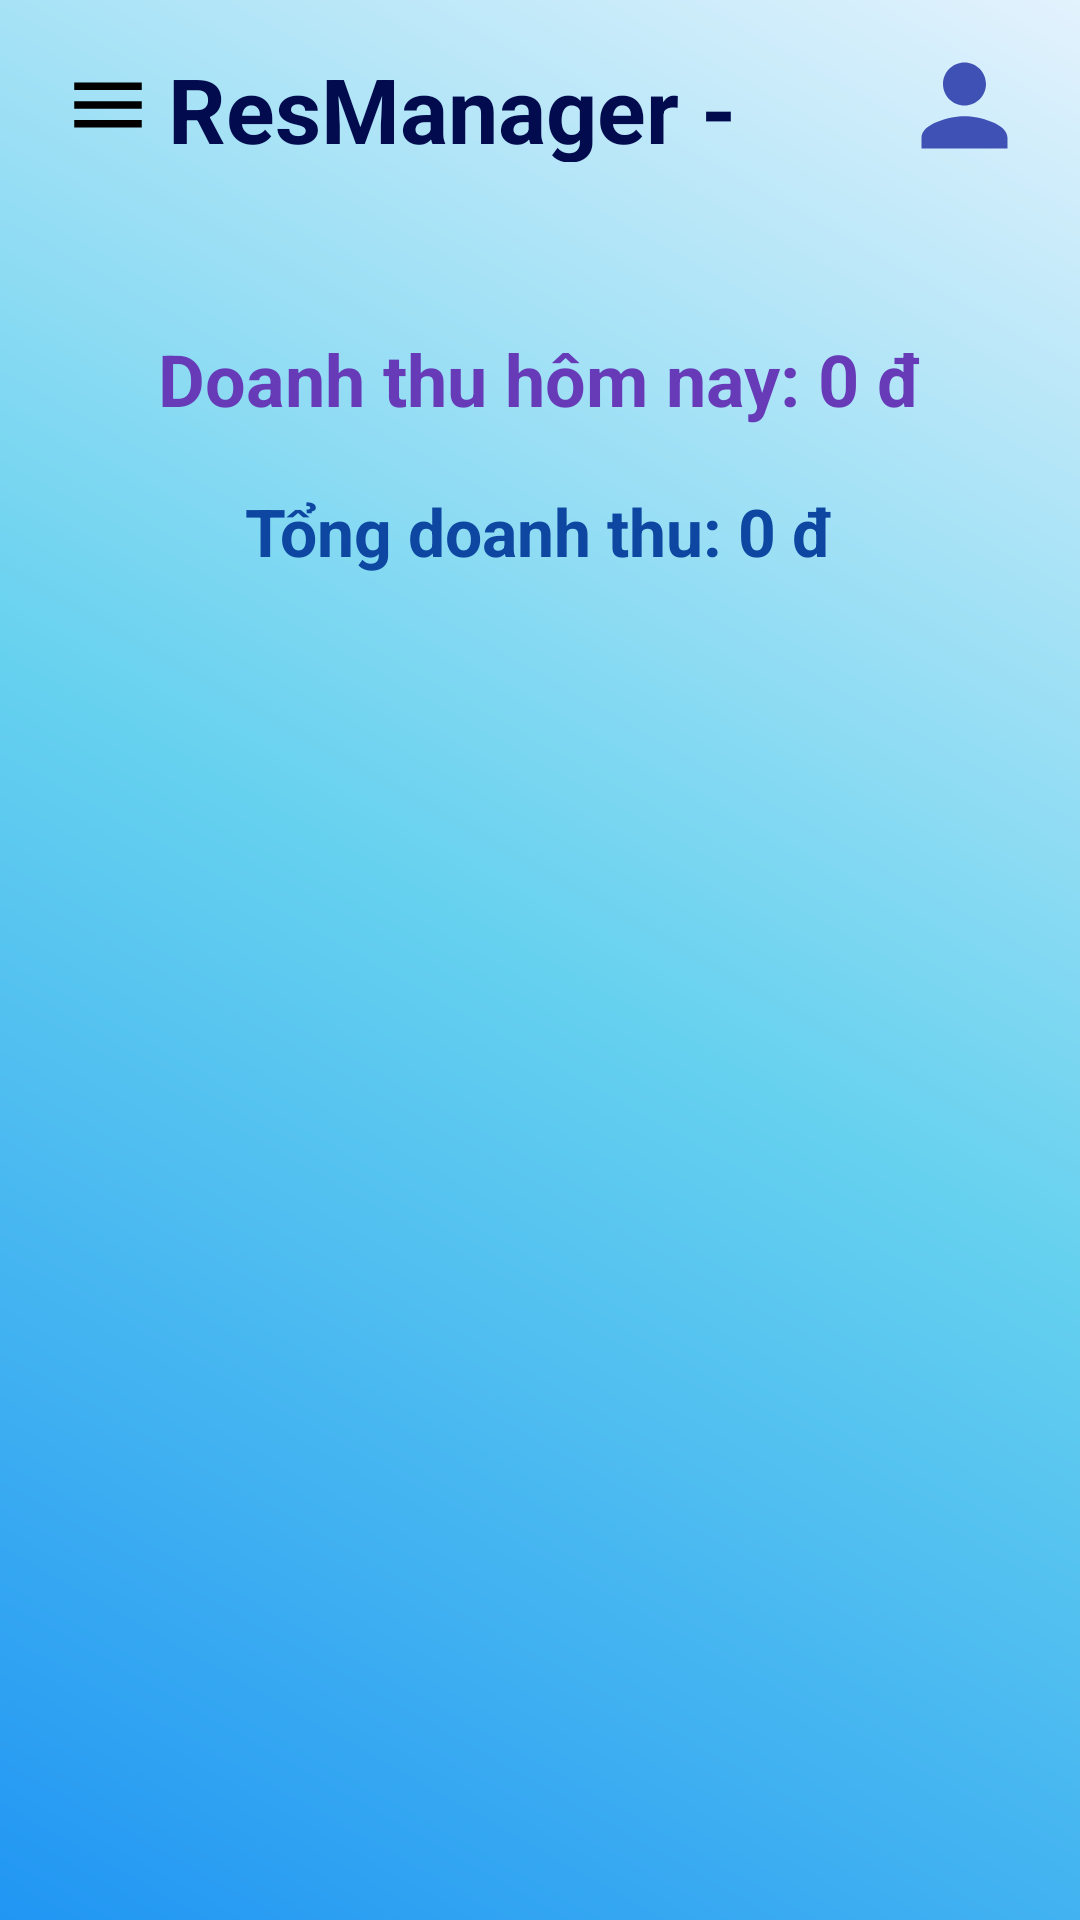

Screen size 1080 × 1920. Icon name, then its box in pixels as bbox=(x1, y1, x2, y2):
menu: bbox=(74, 82, 142, 128)
person: bbox=(921, 62, 1008, 149)
